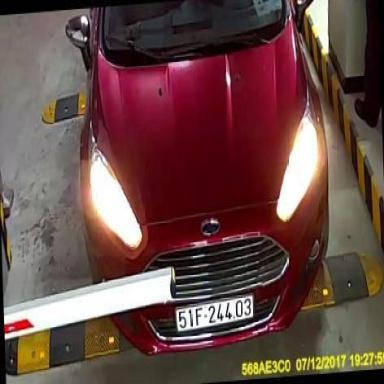License_Plate: (169, 288, 259, 336)
